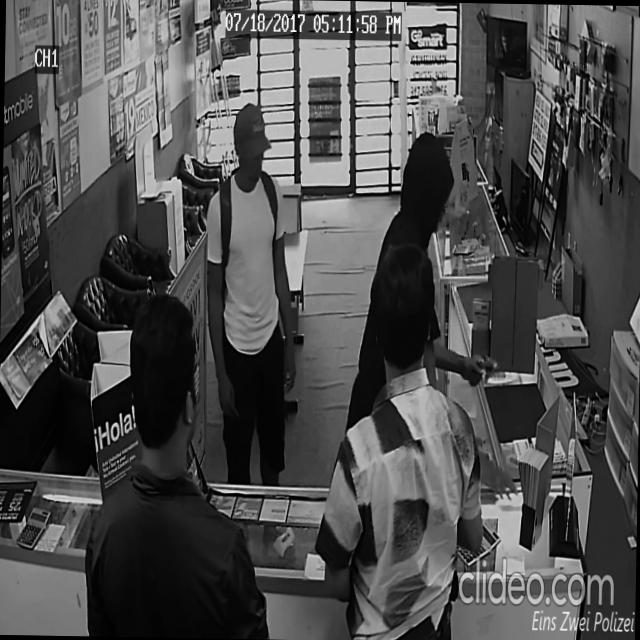gun: (469, 348, 500, 392)
person: (311, 235, 489, 640), (82, 288, 277, 639), (200, 98, 302, 487)
person with a gun: (333, 126, 525, 502)
